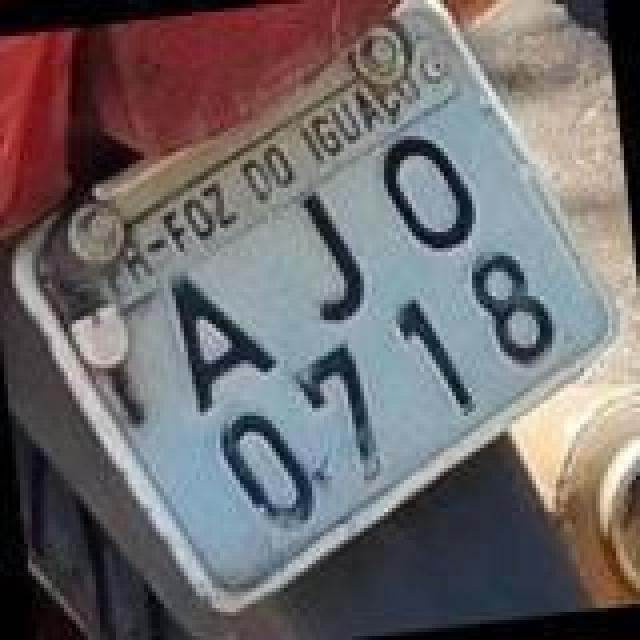1: (386, 292, 478, 428)
7: (284, 338, 388, 494)
8: (464, 238, 560, 370)
A: (164, 268, 284, 420)
J: (298, 184, 374, 328)
O: (378, 126, 486, 258), (216, 406, 320, 538)
